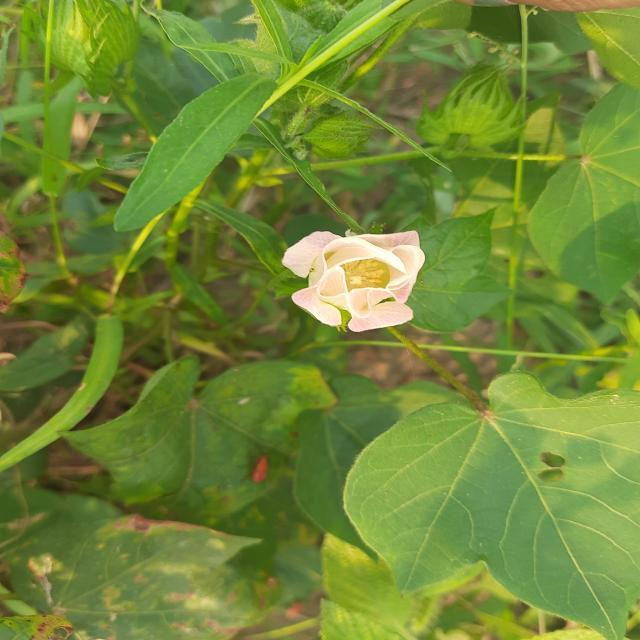Cotton Blossom: (269, 221, 441, 331)
Cotton Bud: (418, 66, 526, 160)
